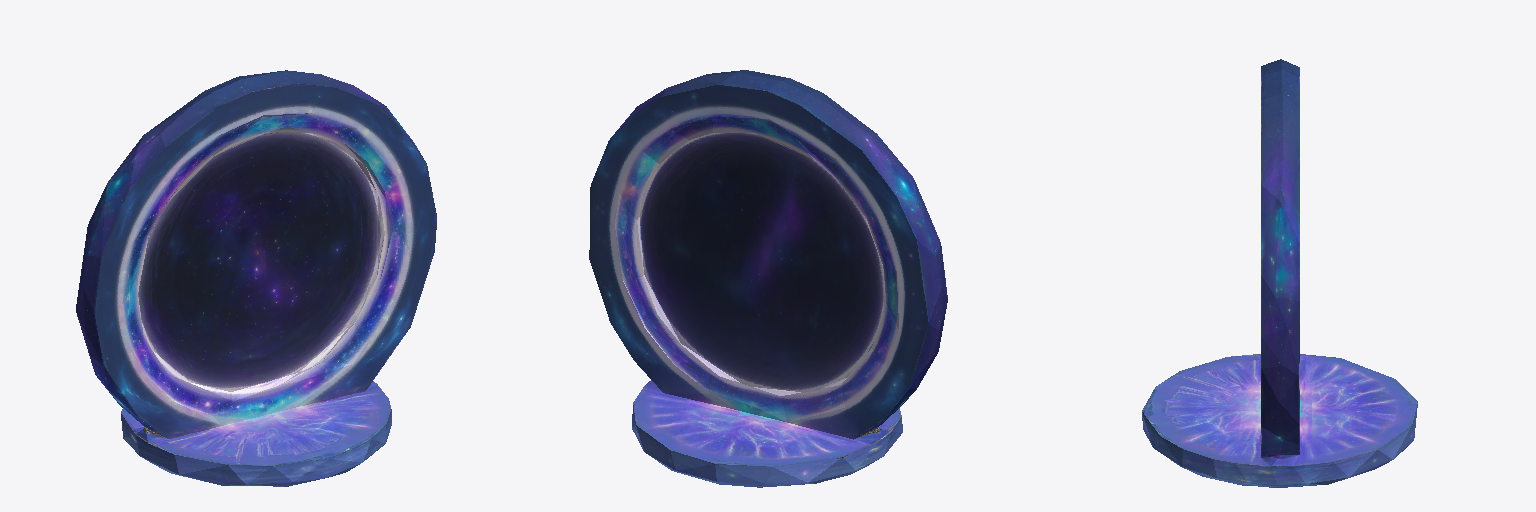
3 renders of one model, left to right at view 1: azimuth 30°, elevation 25°; view 2: azimuth 150°, elevation 25°; view 3: azimuth 270°, elevation 25°, orthographic.
Parts seen in each view (by area): view 1: circular_cosmic_porta_[number redacted]_texture; view 2: circular_cosmic_porta_[number redacted]_texture; view 3: circular_cosmic_porta_[number redacted]_texture.
Part boxes in pixels (x1,y1,x2,y2): circular_cosmic_porta_[number redacted]_texture: (76,70,436,486); circular_cosmic_porta_[number redacted]_texture: (589,70,947,487); circular_cosmic_porta_[number redacted]_texture: (1142,59,1417,487).
Size of the model in its own units: 2 by 1.98 by 1.38.
1 materials, 1 textured.